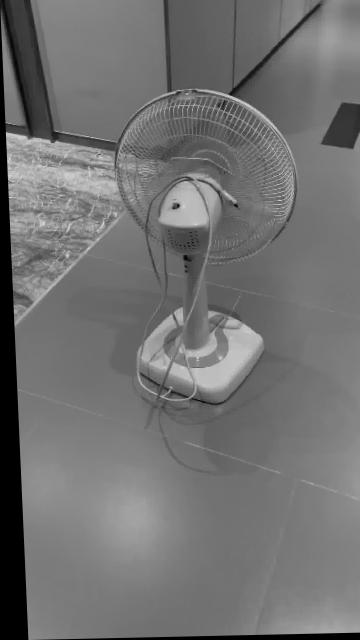Fan: (113, 89, 296, 407)
